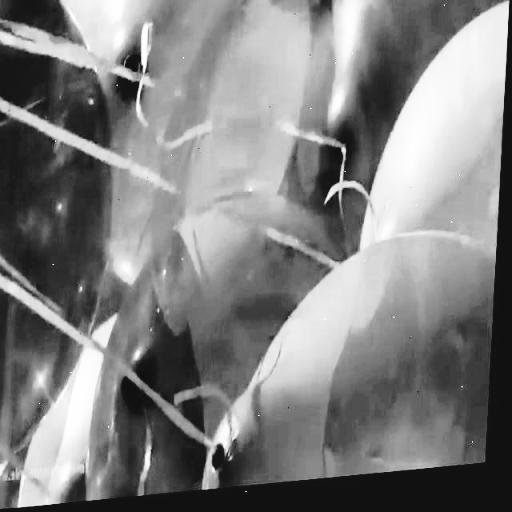balloon: (82, 185, 351, 512), (202, 230, 495, 491), (62, 0, 314, 286), (283, 0, 510, 256), (0, 0, 115, 465), (361, 0, 512, 261)
